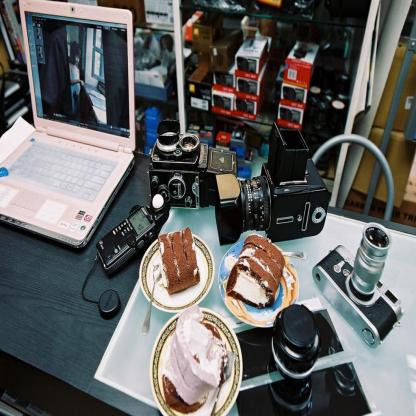board: (3, 8, 134, 261)
